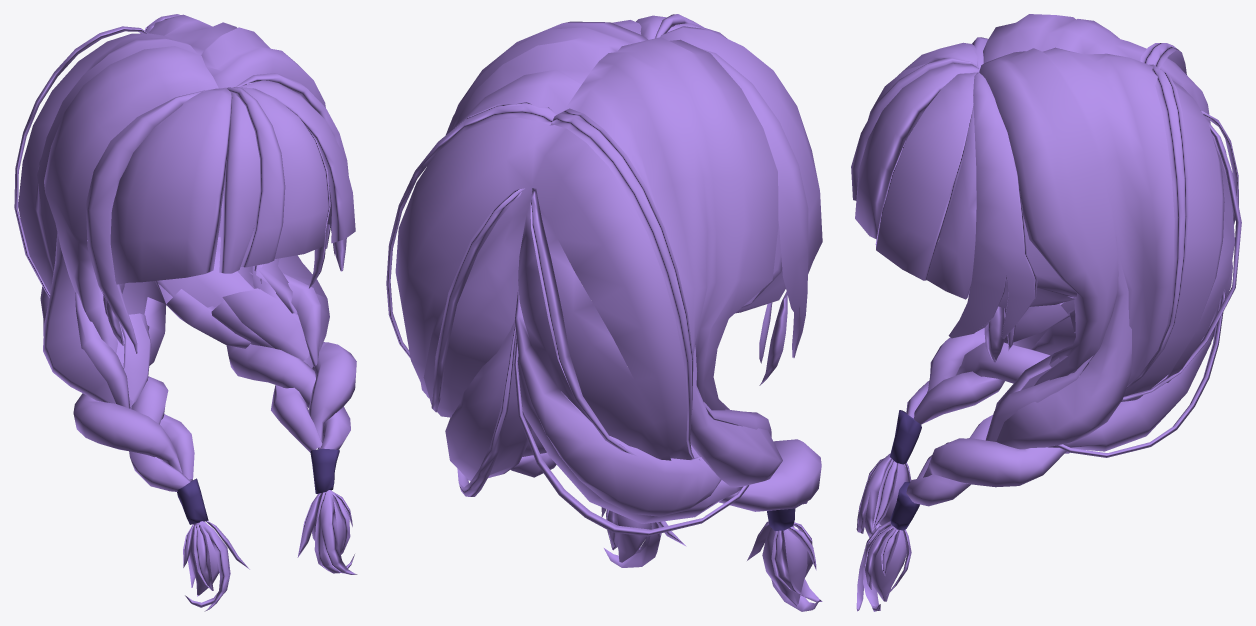
Rendered from BraidedTails_Hair.fbx.
The picture shows the model from 3 angles, left to right: view 1: azimuth 30°, elevation 25°; view 2: azimuth 150°, elevation 25°; view 3: azimuth 270°, elevation 25°; orthographic projection. The views are drawn at different scales.
Visible parts, largest first — view 1: BraidedTails_Hair; view 2: BraidedTails_Hair; view 3: BraidedTails_Hair.
Boxes of the visible parts, x1=… form: BraidedTails_Hair: x1=14, y1=14, x2=357, y2=611; BraidedTails_Hair: x1=386, y1=14, x2=822, y2=611; BraidedTails_Hair: x1=851, y1=14, x2=1241, y2=611.
Size of the model in its own units: 38.98 by 67.34 by 44.44.
